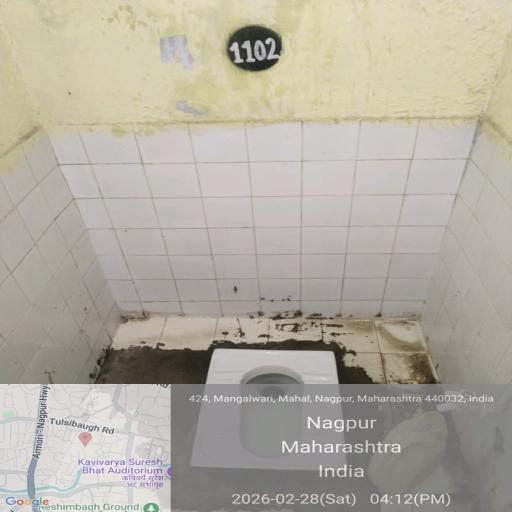clean_floor: (0, 0, 512, 279), (205, 349, 338, 384)
partial_dirty_floor: (109, 297, 438, 348), (86, 343, 446, 384), (0, 290, 100, 375)
